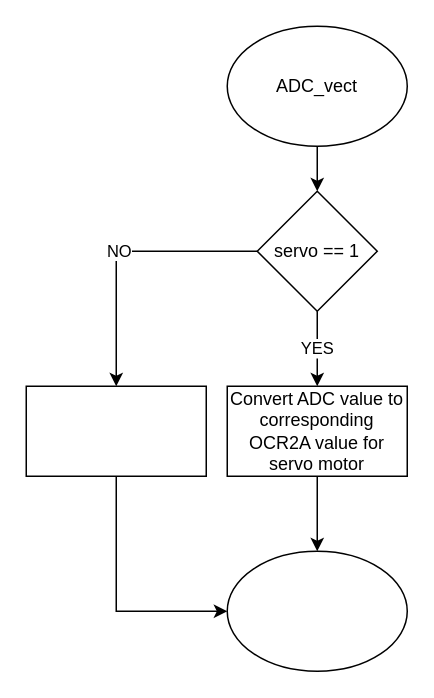
Some shapes in this 434 by 698 pixel diagram are drawn without their labels. Here are the shapes that lost their labels. From the top down, the centre of each, then its label:
the point at 115,430: Convert ADC value to corresponding OCR2B value for servo motor
the point at 316,610: END
